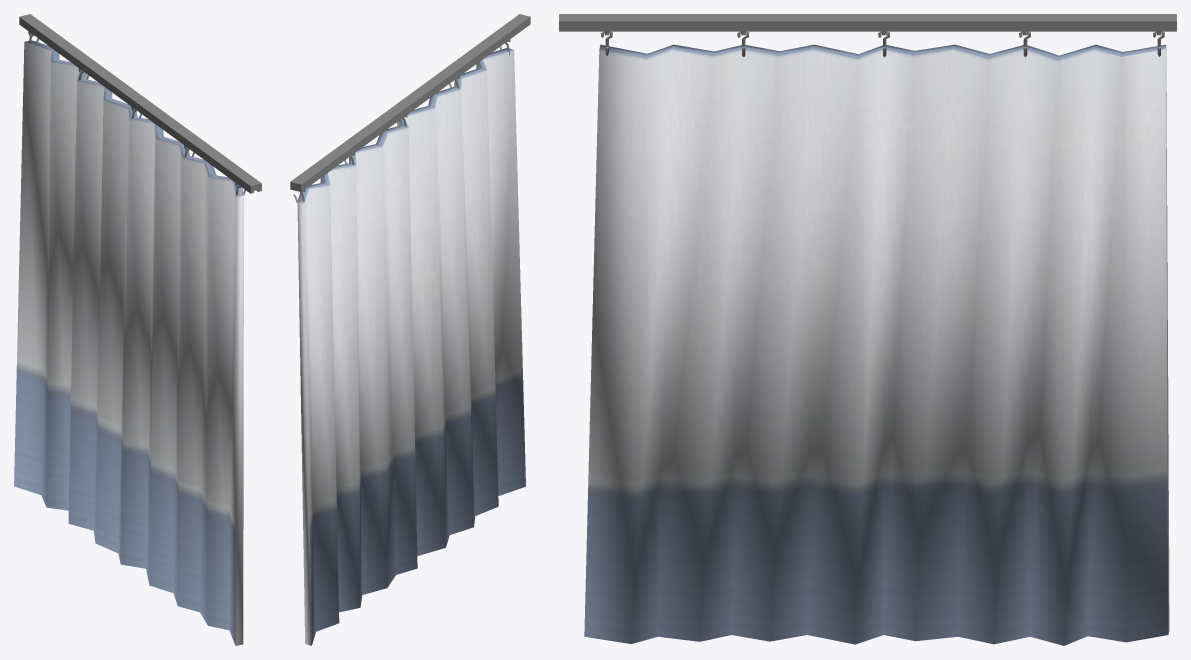
File: bed_curtain.dae
3 renders of one model, left to right at view 1: azimuth 30°, elevation 25°; view 2: azimuth 150°, elevation 25°; view 3: azimuth 270°, elevation 25°, orthographic. The views are drawn at different scales.
Visible parts, largest first — view 1: L_Curtain, Rail; view 2: L_Curtain, Rail; view 3: L_Curtain, Rail.
Part boxes in pixels (x1=…): L_Curtain: x1=14, y1=40, x2=243, y2=645; Rail: x1=19, y1=14, x2=261, y2=193; L_Curtain: x1=297, y1=48, x2=525, y2=645; Rail: x1=290, y1=14, x2=530, y2=191; L_Curtain: x1=584, y1=44, x2=1169, y2=645; Rail: x1=559, y1=14, x2=1176, y2=31.
Size of the model in its own units: 0.1781 by 2.16 by 2.4.
